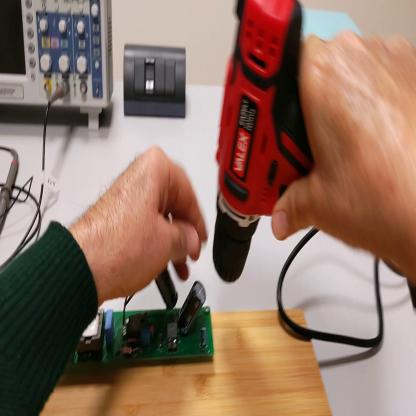electric screwdriver: (211, 2, 316, 288)
hand: (267, 26, 416, 271), (84, 145, 208, 299)
high voltage board: (62, 266, 215, 372)
oscilloscope: (2, 2, 115, 127)
oscilloscope probe tip: (1, 155, 18, 234)
welder station: (302, 11, 364, 43)
working area: (39, 310, 333, 415)
